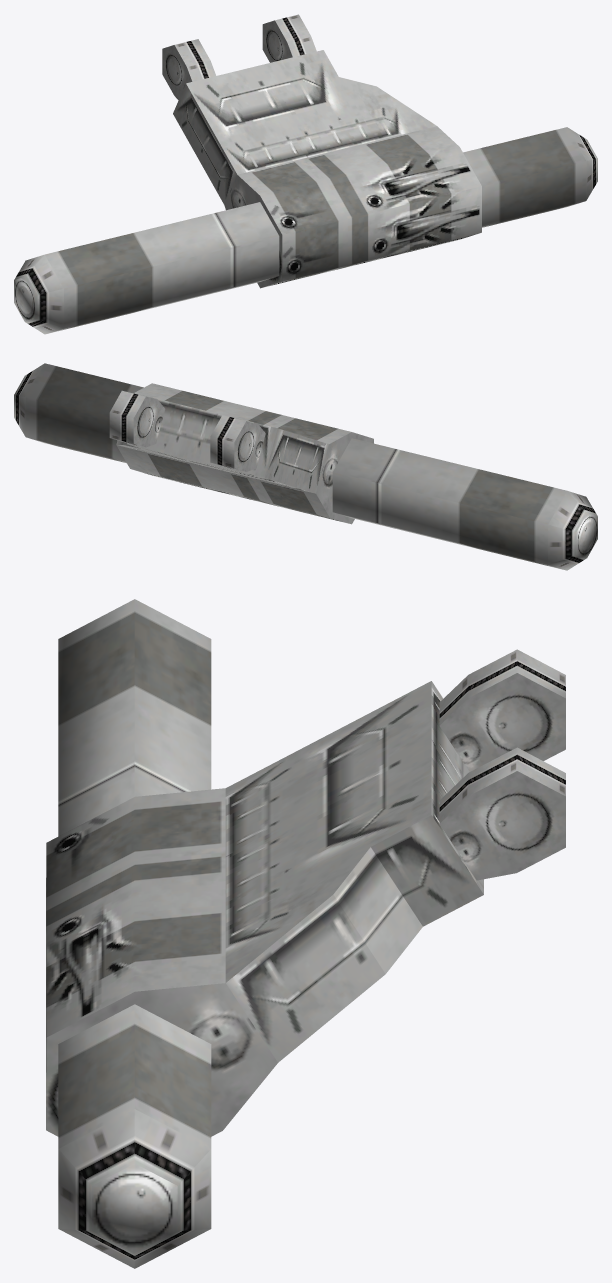
File: PWArmR1.obj
3 views of the same model, one above another, from view 1: azimuth 30°, elevation 25°; view 2: azimuth 150°, elevation 25°; view 3: azimuth 270°, elevation 25° (orthographic). The views are drawn at different scales.
Visible parts, largest first — view 1: R_10; view 2: R_10; view 3: R_10.
Part boxes in pixels (x1=…): R_10: x1=14, y1=14, x2=597, y2=334; R_10: x1=14, y1=363, x2=597, y2=570; R_10: x1=46, y1=599, x2=565, y2=1268.
Size of the model in its own units: 67.05 by 19.49 by 26.84.
1 material, 1 textured.
